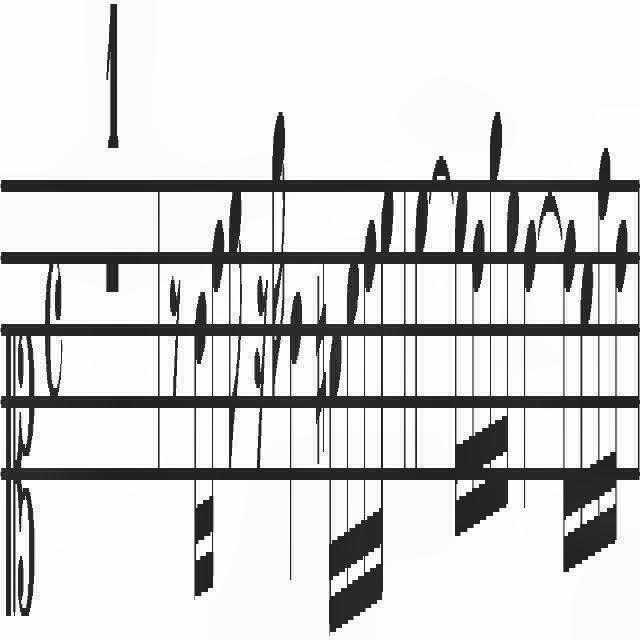Diez: (314, 264, 326, 472)
Eighth-note: (228, 175, 244, 477)
Eighth-rest: (168, 264, 184, 404)
Quarter-note: (288, 279, 304, 593), (522, 214, 538, 518), (414, 182, 428, 482)
Sixteenth-note: (594, 136, 612, 596), (208, 206, 226, 612), (486, 100, 502, 556), (612, 204, 630, 604), (378, 187, 394, 625), (343, 242, 361, 630), (360, 202, 376, 634), (452, 173, 468, 549), (561, 212, 577, 580), (504, 178, 520, 520), (469, 214, 485, 554), (578, 251, 594, 591), (326, 304, 342, 638), (192, 282, 208, 606), (272, 95, 288, 409)
